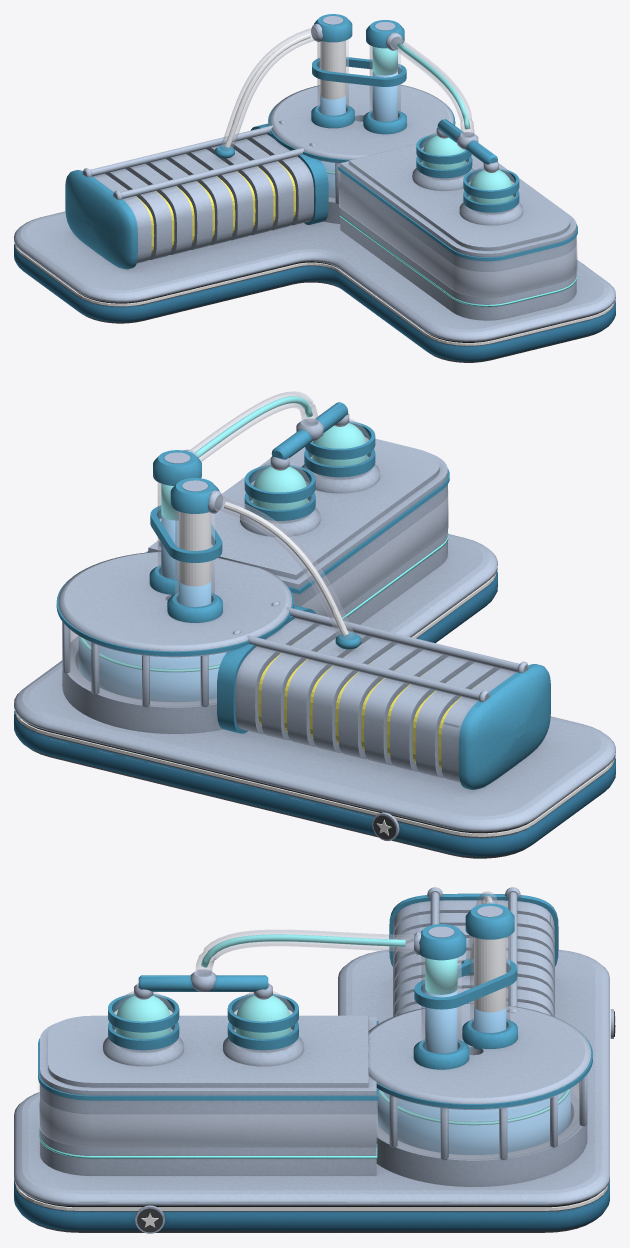
File: SM_Evo_HydrogenPlant.fbx
3 views of the same model, one above another, from view 1: azimuth 30°, elevation 25°; view 2: azimuth 150°, elevation 25°; view 3: azimuth 270°, elevation 25° (orthographic). The views are drawn at different scales.
Visible parts, largest first — view 1: SMN_Evo_HydrogenPlant, Emblem_Fx_HydrogenPlant; view 2: SMN_Evo_HydrogenPlant, Emblem_Fx_HydrogenPlant; view 3: SMN_Evo_HydrogenPlant, Emblem_Fx_HydrogenPlant.
Part boxes in pixels (x1,y1,x2,y2): SMN_Evo_HydrogenPlant: (14,14,615,362); Emblem_Fx_HydrogenPlant: (15,28,614,345); SMN_Evo_HydrogenPlant: (14,402,615,858); Emblem_Fx_HydrogenPlant: (15,391,614,836); SMN_Evo_HydrogenPlant: (14,887,614,1233); Emblem_Fx_HydrogenPlant: (15,891,615,1227).
Bounding box in the file's own units: 1.86 × 0.879 × 1.86.
